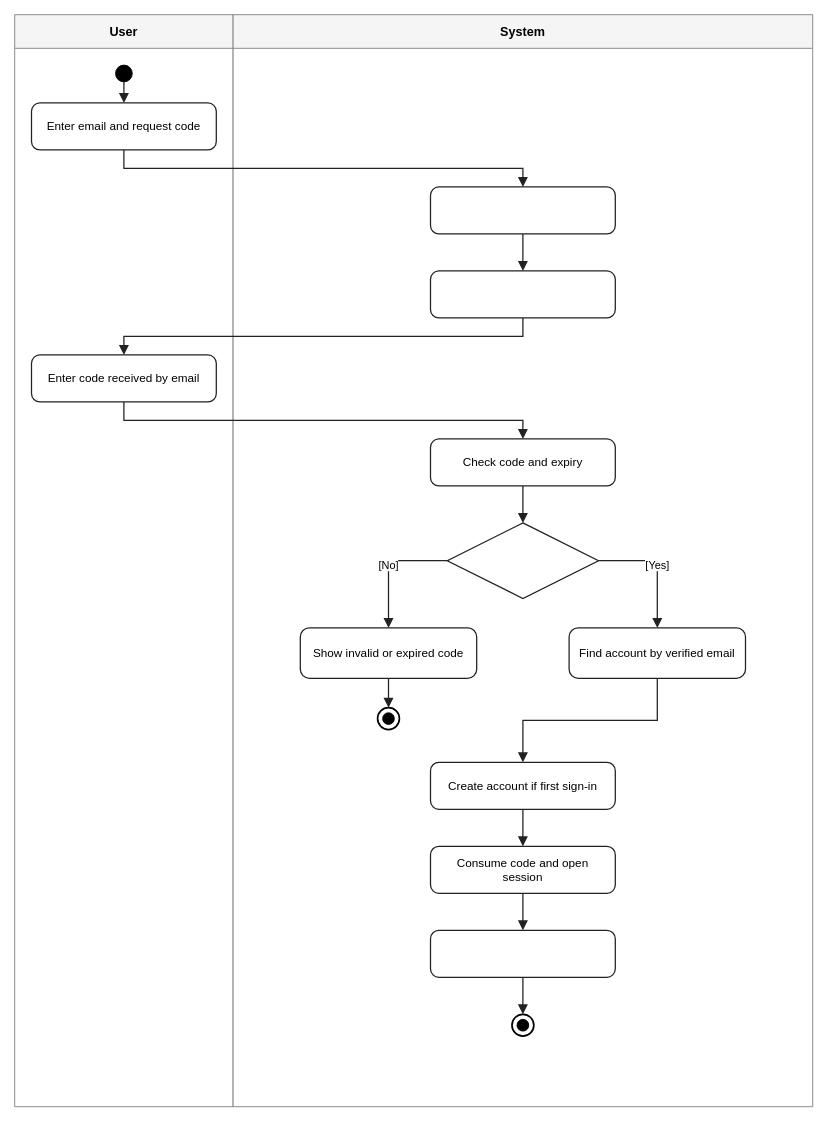
Image size: 827x1121. Some labels were removed from this diagram. The shapes that lost their labels are listed below. From the top down, each one's centre as x and y in pixels, then its label:
At point (522, 210): "Create one-time email challenge".
At point (522, 294): "Request code delivery".
At point (522, 560): "Code valid and unexpired?".
At point (522, 953): "Show signed-in state".
